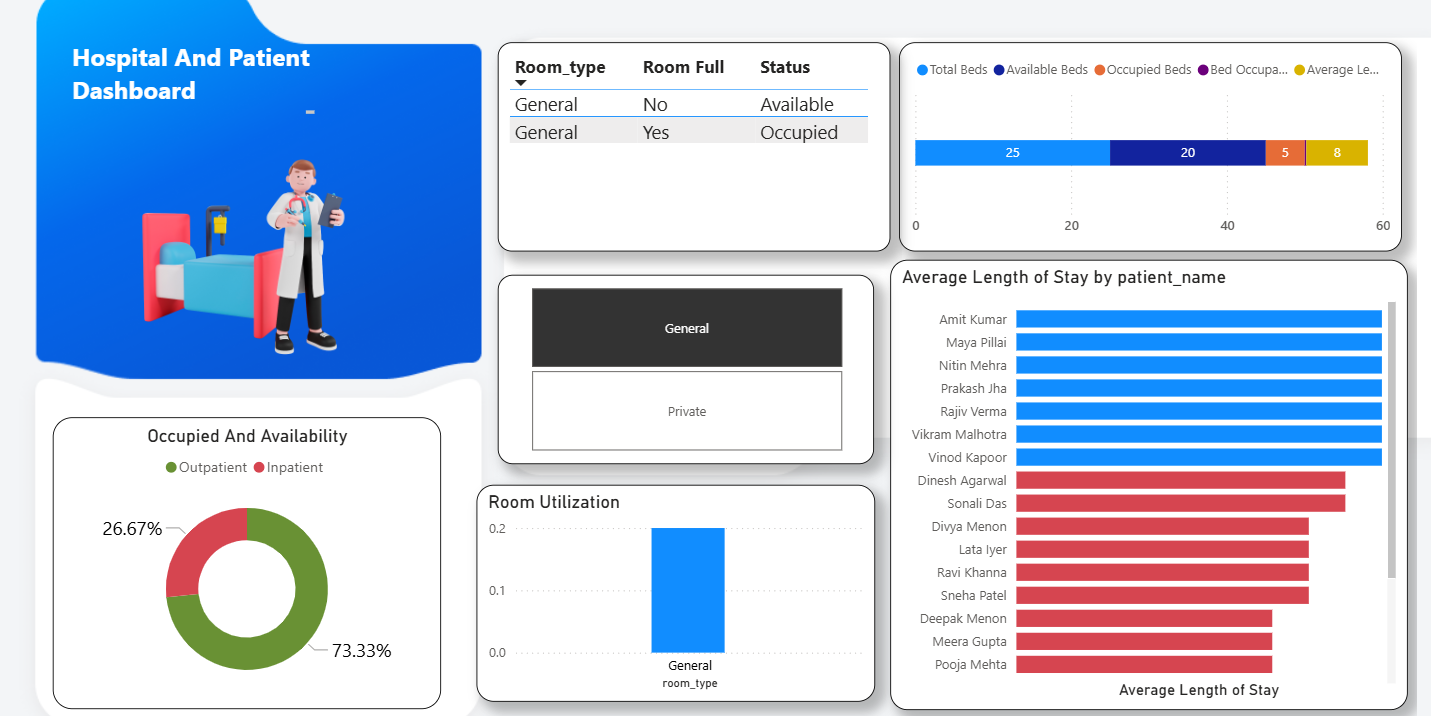

The page's visual inventory and layout, read from the dashboard file:
{"tool":"powerbi","page":{"name":"Hospital","canvas":[1280,720],"ordinal":3},"visuals":[{"type":"barChart","fields":{"Y":["Measure.Total Beds","Measure.Available Beds","Measure.Occupied Beds","Measure.Bed Occupancy %","Measure.Average Length of Stay"]},"box":[798.5,70.9,467.1,194.4],"z":0},{"type":"image","box":[19.6,139.8,346.1,236],"z":0,"group":"g1"},{"type":"donutChart","title":"Occupied And Availability","fields":{"Category":["Patient_info.Patient Type"],"Y":["Measure.Total Patients"]},"box":[12.2,419.4,360.7,271.5],"z":1000},{"type":"tableEx","fields":{"Values":["Beds Info.room_type","Beds Info.Room Full","Beds Info.status"]},"box":[426.8,70.9,364.4,194.4],"z":2000},{"type":"columnChart","title":"Room Utilization","fields":{"Category":["Beds Info.room_type"],"Y":["Measure.Room Utilization %"]},"box":[406,481.8,370.5,201.8],"z":3000},{"type":"textbox","title":"Hospital And Patient Dashboard","box":[25.3,68.5,235.4,73.8],"z":3002,"group":"g1"},{"type":"group","id":"g1","title":"Group 1","box":[19.6,68.5,346.1,306.9],"z":4000},{"type":"clusteredBarChart","fields":{"Category":["Patient_info.patient_name"],"Y":["Measure.Average Length of Stay"]},"box":[791.2,272.7,480.6,418.2],"z":5000},{"type":"slicer","fields":{"Values":["Beds Info.room_type"]},"box":[426.8,287.4,349.7,176.1],"z":6000}]}

Visuals, with their boxes on the page's 1280x720 design canvas (x1, y1, x2, y2). These are canvas units, not pixel positions in the 1431x716 screenshot, which may show the page scaled, cropped or inside an application window:
barChart - Measure.Total Beds x Measure.Available Beds: region(798, 71, 1266, 265)
image: region(20, 140, 366, 376)
"Occupied And Availability" donutChart: region(12, 419, 373, 691)
tableEx - Beds Info.room_type x Beds Info.Room Full: region(427, 71, 791, 265)
"Room Utilization" columnChart: region(406, 482, 776, 684)
"Hospital And Patient Dashboard" textbox: region(25, 68, 261, 142)
"Group 1" group: region(20, 68, 366, 375)
clusteredBarChart - Patient_info.patient_name x Measure.Average Length of Stay: region(791, 273, 1272, 691)
slicer - Beds Info.room_type: region(427, 287, 776, 464)
